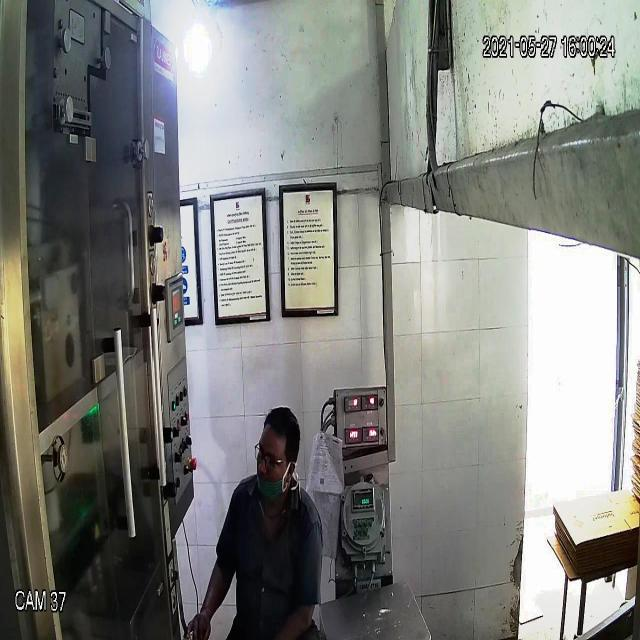glasses: (248, 434, 294, 476)
